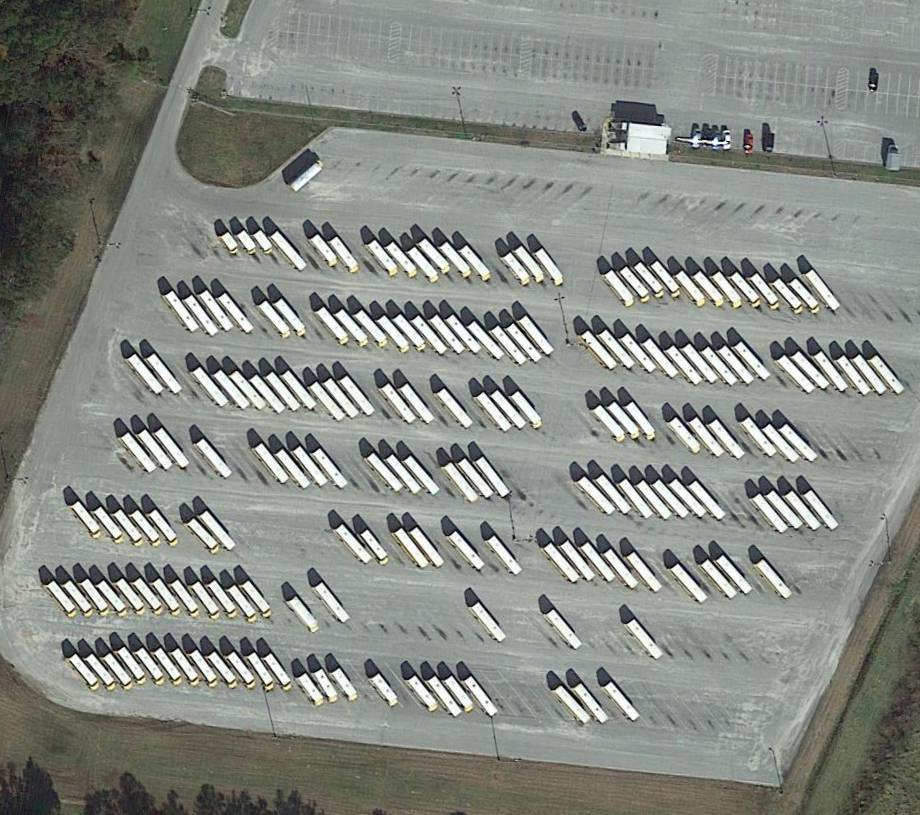large vehicle: (366, 452, 405, 494), (229, 370, 268, 411), (403, 454, 441, 496), (213, 369, 251, 411), (457, 458, 495, 499), (506, 323, 544, 364), (491, 325, 529, 366), (701, 559, 739, 600), (671, 563, 709, 604), (642, 338, 680, 379), (154, 427, 191, 469), (627, 552, 664, 594), (293, 445, 329, 488), (806, 269, 842, 312), (814, 350, 850, 393), (200, 289, 235, 333), (578, 477, 617, 516), (778, 355, 816, 395), (734, 341, 772, 381), (437, 388, 474, 429), (491, 389, 528, 430), (324, 379, 361, 420), (200, 511, 237, 552), (310, 382, 347, 423), (271, 231, 308, 272), (250, 374, 287, 415), (193, 366, 230, 407), (519, 315, 556, 356), (446, 314, 483, 355), (636, 480, 673, 521), (667, 345, 704, 386), (475, 456, 511, 498), (382, 383, 418, 425), (313, 448, 349, 490), (276, 448, 312, 490), (197, 438, 233, 480), (138, 429, 174, 471), (219, 293, 255, 335), (266, 371, 302, 413), (464, 676, 500, 718), (837, 355, 873, 397), (561, 540, 597, 582), (804, 489, 840, 531), (316, 582, 351, 625), (793, 351, 831, 390), (780, 424, 819, 462), (763, 424, 801, 463), (336, 524, 373, 564), (128, 354, 165, 394), (468, 321, 505, 361), (412, 315, 449, 355), (354, 309, 391, 349), (767, 490, 804, 530), (596, 475, 633, 515), (544, 543, 581, 583), (702, 347, 739, 387), (599, 329, 636, 369), (628, 619, 664, 660), (386, 454, 422, 495), (254, 443, 290, 484), (122, 433, 158, 474), (340, 375, 376, 416), (282, 370, 318, 411), (147, 353, 183, 394), (431, 314, 467, 355), (574, 683, 610, 724), (547, 609, 583, 650), (472, 602, 508, 643), (757, 559, 793, 600), (683, 343, 719, 384), (742, 417, 778, 458), (710, 419, 746, 460), (690, 417, 726, 458), (185, 295, 220, 337), (165, 291, 200, 333), (428, 676, 463, 718), (555, 685, 592, 724), (690, 481, 727, 520), (670, 479, 707, 518), (653, 480, 690, 519), (621, 334, 658, 373), (581, 331, 618, 370), (605, 682, 641, 722), (258, 300, 294, 340), (316, 307, 352, 347), (377, 314, 413, 354), (335, 308, 371, 348), (450, 531, 486, 571), (488, 536, 524, 576), (753, 494, 789, 534), (786, 491, 822, 531), (719, 345, 755, 385), (477, 392, 512, 433), (395, 528, 430, 569), (410, 527, 445, 568), (853, 354, 888, 395), (619, 478, 654, 519), (582, 542, 617, 583), (401, 383, 435, 425), (717, 556, 753, 595), (444, 463, 479, 503), (275, 298, 310, 338), (871, 355, 906, 395), (604, 549, 639, 589), (417, 238, 453, 276), (393, 314, 429, 352), (510, 391, 545, 430), (459, 244, 494, 283), (385, 241, 420, 280), (608, 402, 643, 441), (187, 518, 222, 556), (439, 241, 474, 279), (407, 246, 441, 285), (669, 417, 704, 454), (85, 654, 119, 692), (594, 405, 628, 443), (149, 510, 182, 549), (651, 260, 684, 299), (626, 402, 659, 441), (114, 509, 146, 549), (693, 270, 727, 307), (619, 266, 653, 303), (288, 596, 321, 634), (241, 580, 274, 618), (94, 507, 127, 545), (46, 580, 79, 618), (131, 510, 164, 548), (368, 239, 401, 277), (135, 648, 168, 686), (69, 654, 102, 692), (675, 270, 708, 308), (534, 248, 566, 287), (208, 580, 240, 619), (634, 262, 668, 298), (98, 581, 131, 618), (514, 246, 547, 283), (750, 273, 783, 310), (790, 278, 823, 315), (72, 502, 104, 540), (116, 578, 148, 616), (133, 578, 165, 616), (63, 580, 95, 618), (103, 653, 135, 691), (713, 271, 745, 309), (773, 278, 806, 314), (290, 159, 326, 192), (605, 270, 637, 307), (208, 652, 240, 689), (171, 580, 202, 618), (117, 647, 148, 685), (154, 648, 185, 686), (190, 650, 221, 688), (192, 582, 223, 620), (264, 653, 295, 691), (227, 651, 258, 689), (153, 578, 183, 617), (81, 578, 111, 617), (731, 272, 763, 308), (229, 586, 260, 623), (331, 237, 361, 275), (248, 652, 277, 691), (361, 530, 392, 566), (445, 676, 476, 712), (409, 675, 440, 711), (172, 649, 202, 686), (502, 253, 533, 287), (372, 673, 401, 706), (312, 234, 340, 268), (332, 668, 360, 702), (298, 673, 326, 707), (315, 669, 340, 704)
small vehicle: (237, 230, 259, 256), (254, 230, 275, 255), (222, 232, 241, 256)
